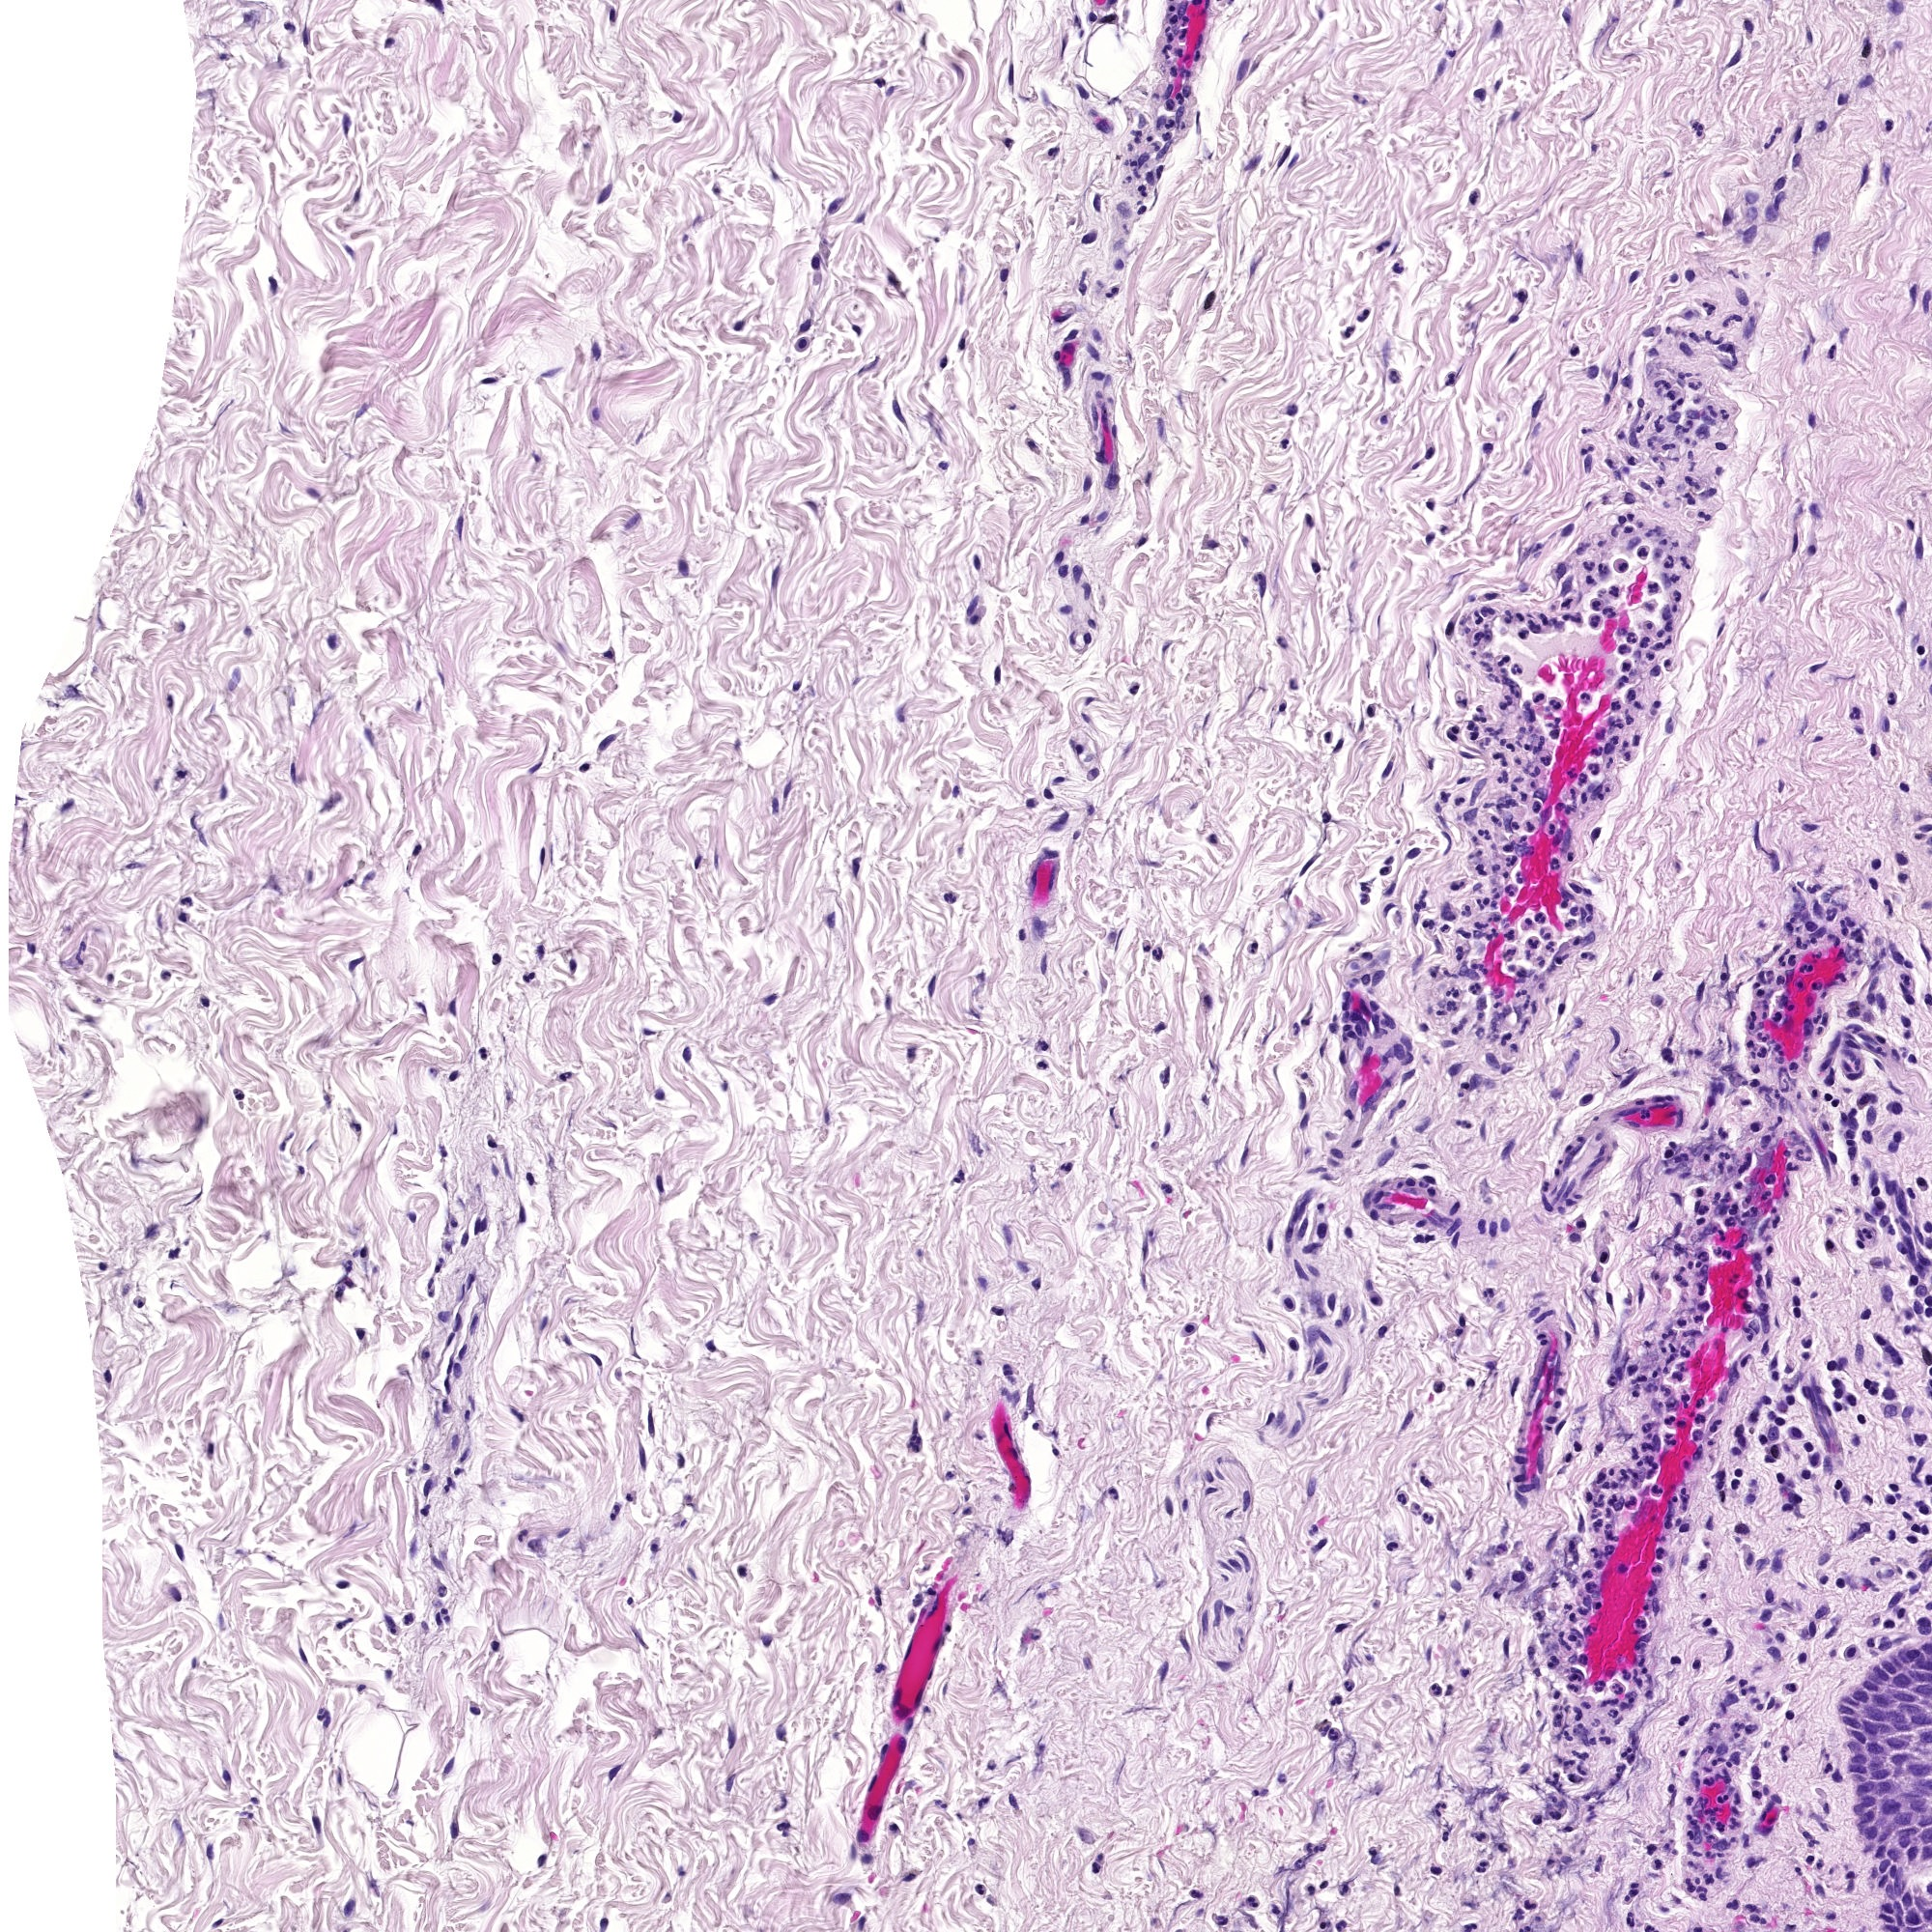epithelial: (1877, 1787, 1882, 1790), (1851, 1721, 1854, 1725), (1900, 1677, 1902, 1683), (1888, 1808, 1893, 1810), (1913, 1654, 1916, 1656), (1858, 1695, 1861, 1697), (1870, 1725, 1872, 1729), (1870, 1833, 1872, 1836), (1913, 1918, 1914, 1921), (1861, 1736, 1863, 1737)
fibroblast and endothelial: (1778, 180, 1782, 186), (1739, 297, 1744, 301), (446, 1766, 451, 1769), (304, 35, 308, 39), (676, 115, 679, 119), (1821, 239, 1822, 246), (1920, 545, 1921, 552), (996, 671, 1000, 674), (1049, 853, 1053, 856), (603, 741, 607, 745), (290, 768, 294, 771), (1398, 1051, 1401, 1054), (1879, 1339, 1882, 1343), (649, 1426, 653, 1430), (1913, 288, 1914, 294), (1451, 375, 1453, 380), (1534, 407, 1536, 412), (1813, 665, 1815, 671), (1511, 858, 1513, 863), (931, 985, 932, 991), (1329, 1299, 1330, 1304), (177, 1592, 179, 1598), (1224, 1665, 1226, 1670), (349, 1905, 350, 1911), (1242, 65, 1244, 69), (1808, 35, 1810, 39), (1727, 216, 1729, 219), (1633, 274, 1635, 278), (1362, 317, 1366, 318), (1348, 327, 1350, 331), (1392, 373, 1396, 375), (1614, 379, 1615, 382), (1072, 334, 1074, 338), (961, 343, 962, 347), (1056, 559, 1060, 561), (1449, 628, 1451, 632), (1794, 541, 1796, 545), (1537, 805, 1539, 809), (1387, 770, 1389, 773), (1046, 793, 1047, 796), (541, 853, 543, 856), (1376, 975, 1378, 978), (1412, 853, 1414, 856), (1560, 1007, 1562, 1010), (1454, 1069, 1456, 1072), (1656, 975, 1658, 978), (1723, 975, 1725, 978), (1698, 989, 1700, 993), (1615, 1037, 1619, 1039), (1824, 1063, 1826, 1067), (1592, 1162, 1596, 1164), (1633, 1224, 1637, 1226), (1677, 1196, 1679, 1200), (1833, 1155, 1835, 1159), (1852, 1076, 1856, 1077), (1879, 1063, 1882, 1065), (1546, 1205, 1550, 1207), (1479, 1224, 1481, 1228), (1454, 1207, 1456, 1210), (1453, 1226, 1454, 1230), (1302, 1230, 1304, 1233), (359, 1332, 361, 1336), (596, 1361, 600, 1362), (1322, 1336, 1325, 1338), (1859, 1242, 1861, 1246), (462, 1456, 465, 1458), (862, 1835, 863, 1838), (837, 1898, 840, 1900), (541, 1856, 543, 1859), (317, 1821, 318, 1824), (1734, 58, 1736, 60), (1865, 173, 1867, 175), (1711, 410, 1713, 412), (1428, 453, 1430, 455), (1092, 350, 1093, 352), (1097, 373, 1099, 375), (943, 361, 945, 363), (1086, 637, 1088, 639), (1812, 548, 1813, 550), (1583, 796, 1585, 798), (1338, 745, 1339, 747), (1306, 865, 1307, 867), (1044, 964, 1046, 966), (1874, 982, 1875, 984), (1168, 1129, 1169, 1131), (658, 1184, 660, 1185), (456, 1320, 458, 1322), (1642, 1297, 1644, 1299), (1829, 1242, 1831, 1244), (1743, 1361, 1744, 1362), (1246, 1497, 1247, 1499), (1054, 1453, 1056, 1454)
inflammatory: (1550, 1661, 1557, 1668), (1583, 448, 1591, 453), (1479, 1863, 1484, 1870), (1500, 658, 1506, 663), (1476, 985, 1481, 991), (1702, 1207, 1707, 1212), (1652, 586, 1656, 591), (1384, 869, 1389, 872), (1484, 832, 1488, 837), (1573, 909, 1576, 915), (1507, 932, 1511, 938), (1428, 924, 1433, 927), (959, 1175, 962, 1180), (1629, 1500, 1635, 1504), (1180, 35, 1184, 39), (1658, 425, 1661, 428), (1629, 639, 1633, 642), (1486, 610, 1493, 612), (1667, 625, 1670, 628), (1543, 619, 1546, 623), (1555, 702, 1559, 706), (1500, 754, 1504, 757), (1132, 688, 1136, 692), (527, 975, 531, 978), (1449, 993, 1456, 994), (1844, 925, 1845, 932), (1552, 1812, 1555, 1815), (1663, 382, 1668, 384), (1854, 711, 1856, 717), (1803, 970, 1808, 971), (1293, 1343, 1295, 1348), (1332, 1736, 1338, 1737), (1713, 1760, 1718, 1762), (1720, 1799, 1725, 1801), (1051, 149, 1053, 152), (1169, 122, 1171, 126), (1141, 188, 1143, 191), (1472, 195, 1474, 198), (1573, 350, 1576, 352), (1594, 603, 1598, 605), (1592, 621, 1594, 625), (1522, 633, 1523, 637), (1644, 642, 1647, 644), (1658, 646, 1661, 648), (1546, 759, 1548, 763), (1649, 655, 1651, 658), (1555, 732, 1557, 736), (1550, 826, 1552, 830), (1481, 870, 1483, 874), (1281, 639, 1283, 642), (186, 901, 188, 904), (1021, 934, 1023, 938), (1532, 943, 1536, 945), (1518, 993, 1522, 994), (1484, 901, 1486, 904), (1571, 920, 1573, 924), (1550, 943, 1552, 947), (1760, 1035, 1762, 1039), (1799, 943, 1801, 947), (1905, 978, 1907, 982), (1667, 1054, 1668, 1058), (1585, 1099, 1589, 1100), (1752, 1125, 1753, 1129), (1063, 1168, 1067, 1169), (529, 1177, 531, 1180), (998, 1311, 1001, 1313), (1187, 1327, 1191, 1329), (1748, 1306, 1750, 1309), (1704, 1304, 1706, 1307), (1665, 1334, 1668, 1336), (1610, 1380, 1612, 1384), (1677, 1375, 1679, 1378), (1654, 1490, 1658, 1491), (1654, 1568, 1658, 1569), (1426, 1516, 1428, 1520), (1516, 1576, 1518, 1580), (1599, 1500, 1601, 1504), (1598, 1522, 1599, 1525), (407, 1619, 410, 1621), (1336, 1698, 1338, 1702), (1575, 1675, 1578, 1677), (1683, 1720, 1684, 1723), (1851, 1651, 1852, 1654), (1720, 1826, 1721, 1829), (1651, 1847, 1652, 1851), (1690, 1884, 1691, 1888), (1732, 1905, 1736, 1907), (1251, 1900, 1253, 1904), (980, 1888, 982, 1891), (832, 207, 833, 209), (1088, 239, 1090, 241), (1180, 97, 1182, 99), (1164, 48, 1166, 50), (1821, 126, 1822, 127), (1769, 143, 1771, 145), (1709, 340, 1711, 341), (801, 341, 803, 343), (1477, 619, 1479, 621), (1688, 479, 1690, 481), (1874, 748, 1875, 750), (1875, 865, 1877, 867), (1902, 858, 1904, 860), (1583, 695, 1585, 697), (1454, 731, 1456, 732), (1594, 770, 1596, 771), (1536, 770, 1537, 771), (1504, 706, 1506, 708), (1656, 669, 1658, 671), (1580, 778, 1582, 780), (1325, 816, 1327, 817), (1093, 773, 1095, 775), (582, 768, 584, 770), (483, 1053, 485, 1054), (948, 897, 950, 899), (1040, 1063, 1042, 1065), (1539, 916, 1541, 918), (1509, 888, 1511, 890), (1449, 1005, 1451, 1007), (1780, 980, 1782, 982), (1799, 984, 1801, 985), (1769, 1180, 1771, 1182), (1580, 1223, 1582, 1224), (1921, 1180, 1923, 1182), (1867, 1231, 1868, 1233), (490, 1141, 492, 1143), (237, 1093, 239, 1095), (1288, 1302, 1290, 1304), (1488, 1292, 1490, 1293), (1603, 1254, 1605, 1256), (1458, 1330, 1460, 1332), (1702, 1256, 1704, 1258), (1681, 1323, 1683, 1325), (1923, 1509, 1925, 1511), (474, 1709, 476, 1711), (1640, 1622, 1642, 1624), (1737, 1725, 1739, 1727), (1529, 1905, 1530, 1907), (1311, 1888, 1313, 1890)
lymphocyte: (1364, 978, 1368, 982), (1898, 1612, 1902, 1615), (1920, 649, 1921, 653), (1668, 1154, 1670, 1157), (1465, 1086, 1468, 1088), (1762, 1440, 1766, 1442), (1886, 1622, 1890, 1624), (1913, 1537, 1914, 1541), (1874, 1191, 1875, 1192), (1829, 1362, 1831, 1364), (1840, 1582, 1842, 1583), (1891, 1499, 1893, 1500), (1674, 1660, 1675, 1661)
